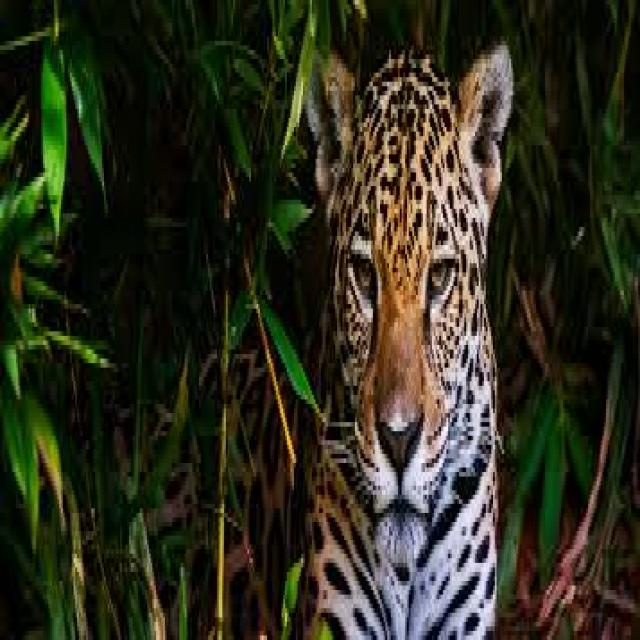Jaguar: (291, 32, 509, 640)
